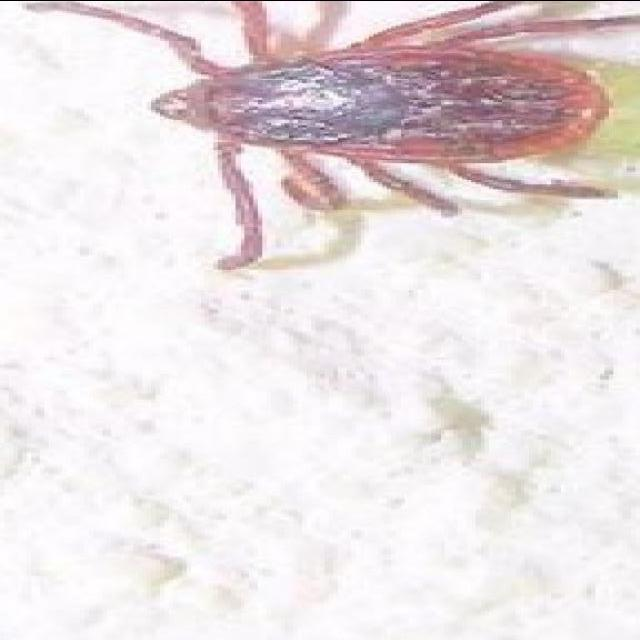Rhipicephalus Sanguineus-F: (80, 0, 640, 268)
